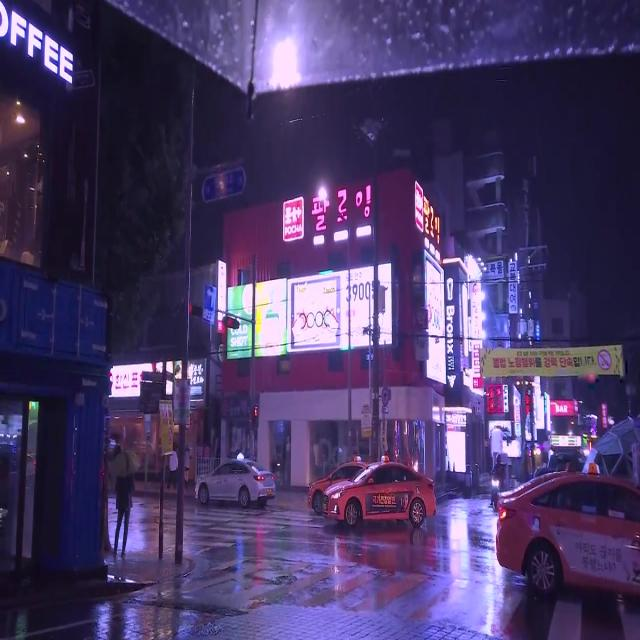Car: (322, 455, 434, 528), (189, 459, 276, 506)
